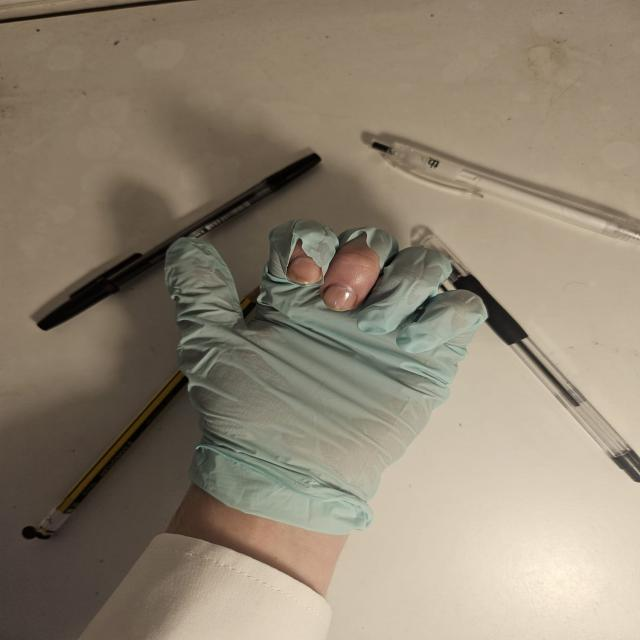gloves_damaged: (156, 217, 490, 539)
